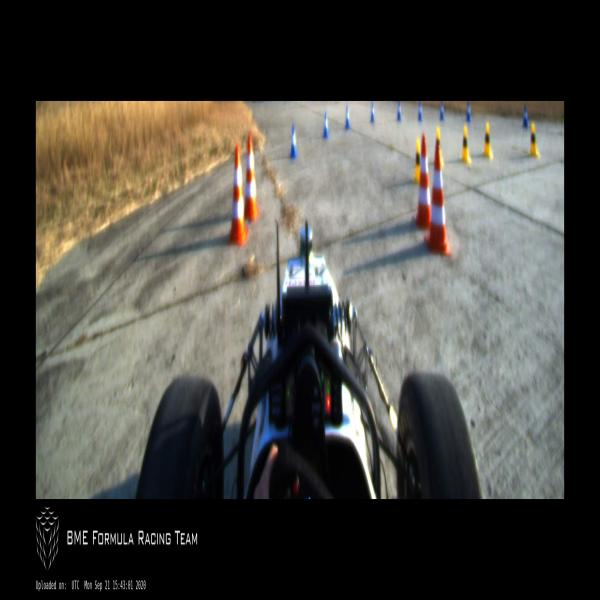blue_cone: (289, 126, 298, 158), (322, 111, 328, 140), (466, 101, 472, 123), (522, 106, 528, 128), (345, 105, 350, 129), (439, 101, 445, 121), (370, 101, 375, 124), (397, 101, 402, 121), (418, 101, 423, 121)
large_orange_cone: (424, 146, 451, 255), (226, 142, 249, 246), (412, 134, 432, 228), (244, 135, 260, 223)
yellow_cone: (460, 125, 472, 166), (482, 121, 493, 159), (412, 140, 421, 186), (434, 127, 444, 167), (528, 123, 538, 157)
